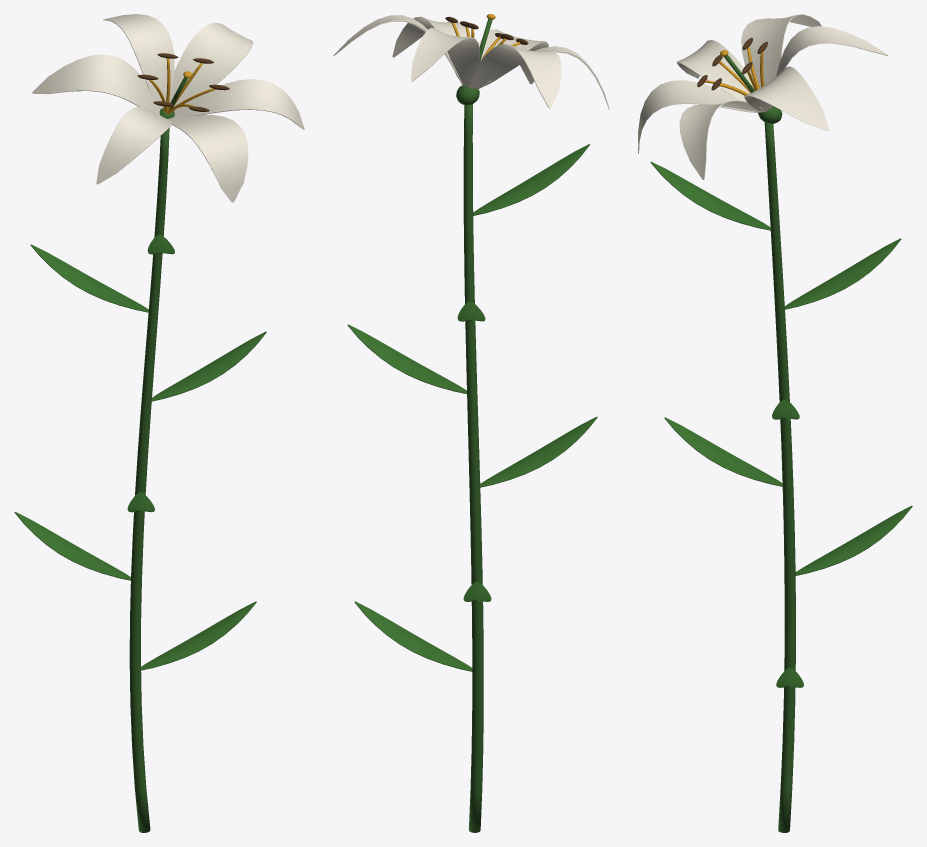
Rendered from Lily_Medium.fbx.
3 views of the same model, side by side, from view 1: azimuth 30°, elevation 25°; view 2: azimuth 150°, elevation 25°; view 3: azimuth 270°, elevation 25° (orthographic).
Parts seen in each view (by area): view 1: Lily_Medium; view 2: Lily_Medium; view 3: Lily_Medium.
Boxes of the visible parts, x1,y1,x2,y2 form: Lily_Medium: (14,14,304,832); Lily_Medium: (333,14,609,832); Lily_Medium: (638,14,912,832).
Size of the model in its own units: 0.129 by 0.45 by 0.1397.
5 materials, 5 textured.
